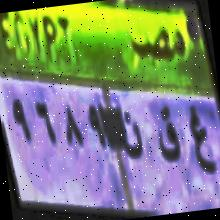6: (34, 98, 59, 150)
8: (60, 104, 88, 152)
9: (9, 90, 34, 148), (83, 103, 109, 157)
ghayn: (184, 97, 218, 190)
noon: (116, 104, 146, 164)
qaaf: (154, 101, 183, 172)
